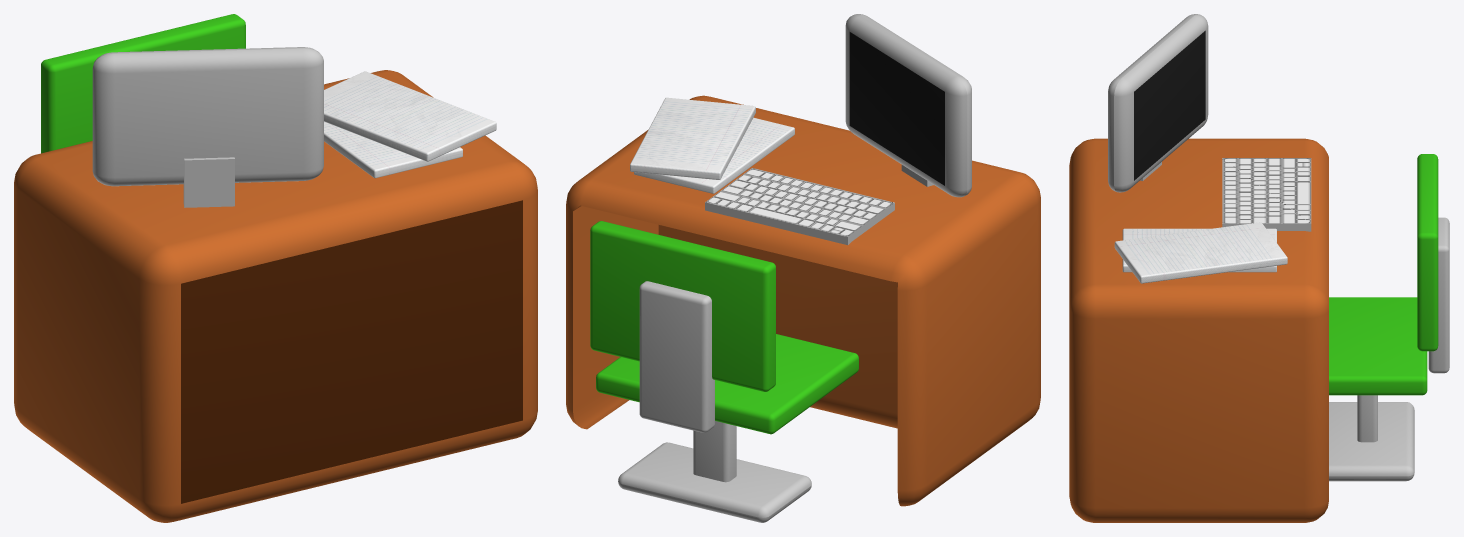
Rendered from Desk.fbx.
3 views of the same model, side by side, from view 1: azimuth 30°, elevation 25°; view 2: azimuth 150°, elevation 25°; view 3: azimuth 270°, elevation 25° (orthographic). The views are drawn at different scales.
Visible parts, largest first — view 1: Desk, Chair; view 2: Desk, Chair; view 3: Desk, Chair.
Part boxes in pixels (box(x1,y1,x2,y2)): Desk: box(14, 47, 537, 522); Chair: box(41, 14, 245, 153); Desk: box(566, 14, 1040, 506); Chair: box(590, 221, 858, 522); Desk: box(1069, 14, 1328, 522); Chair: box(1329, 154, 1449, 481).
Bounding box in the file's own units: 300 × 308 × 291.
Materials: 8 (2 with a texture image).
